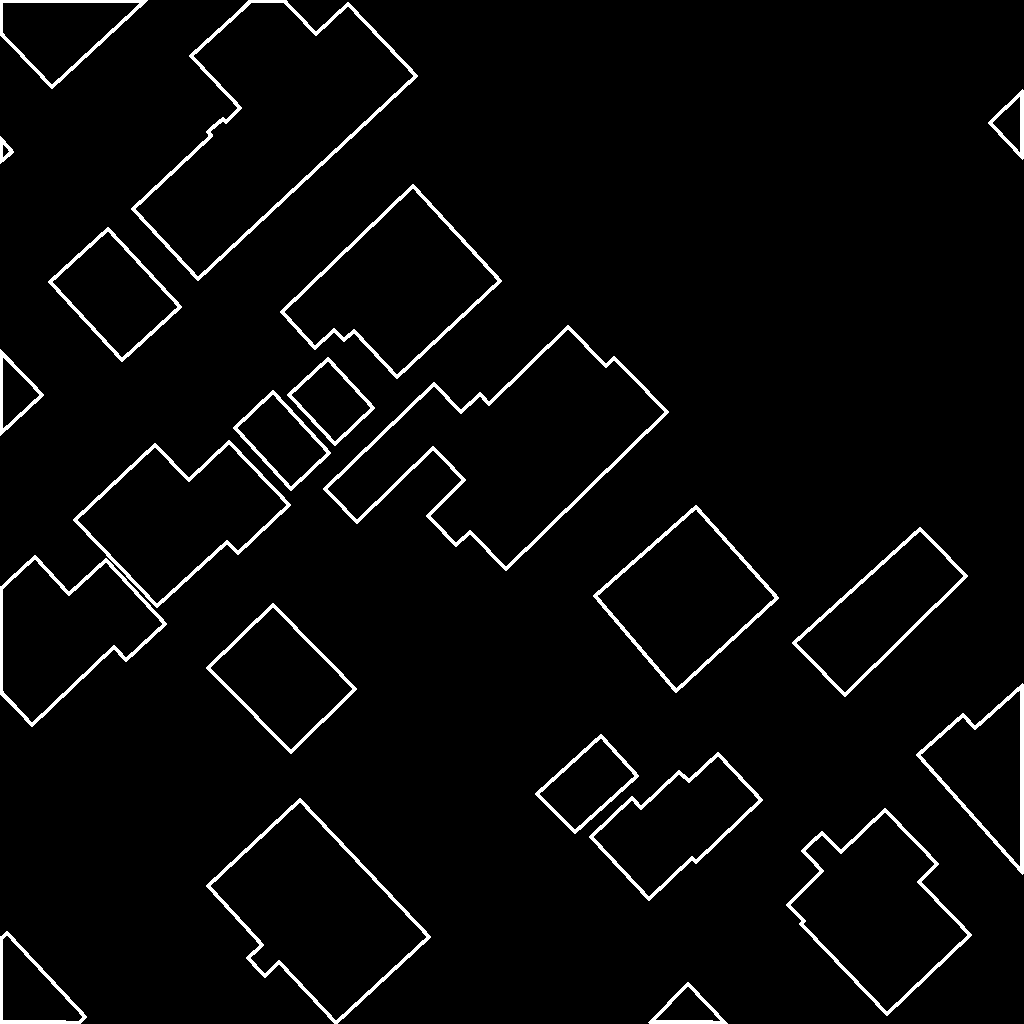building: (325, 327, 668, 570), (133, 0, 417, 280), (208, 800, 430, 1024), (282, 186, 501, 378), (788, 810, 971, 1015), (75, 442, 290, 607), (595, 507, 778, 692), (794, 529, 967, 696), (0, 557, 166, 726), (591, 754, 762, 900), (208, 605, 356, 753), (918, 685, 1024, 874), (50, 229, 181, 361), (0, 0, 147, 88), (537, 736, 638, 833), (235, 392, 330, 490), (0, 933, 86, 1024), (289, 359, 374, 445), (0, 351, 43, 435), (650, 984, 727, 1024), (990, 91, 1024, 159), (0, 138, 13, 163)
